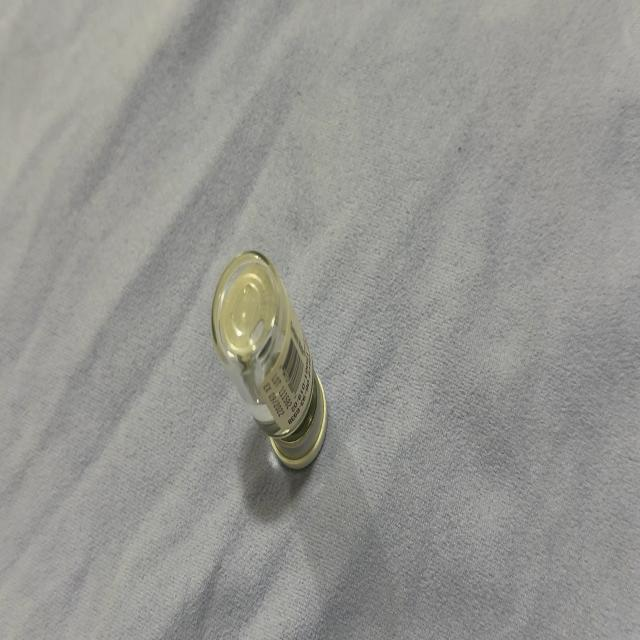fentanl_citrat: (213, 254, 326, 467)
